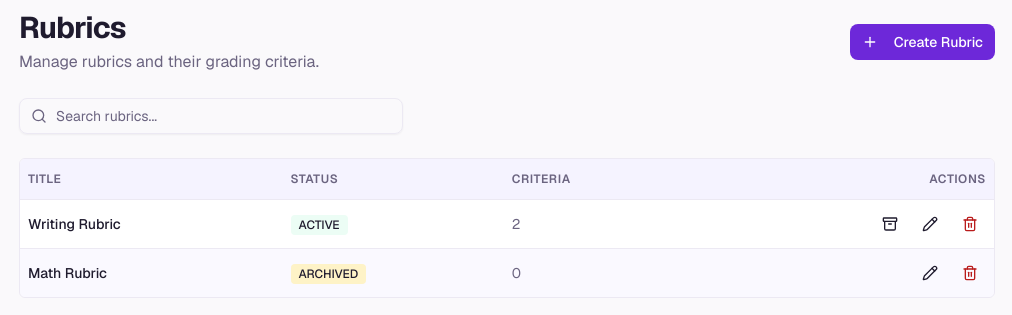
Test: RubricListView › shows 'No rubrics match your search.' when filter yields no results
Expected: the text "Writing Rubric" is shown, x1=20 y1=199 x2=283 y2=248
Type "xyznotfound" into the field with placeholder "Search rubrics..." at (211, 116), box x1=19 y1=98 x2=403 y2=134
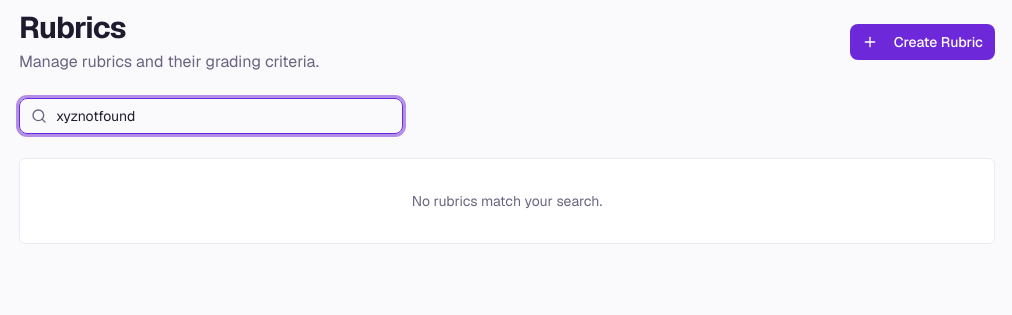
Expected: the text "No rubrics match your search." is shown, x1=412 y1=192 x2=602 y2=210
